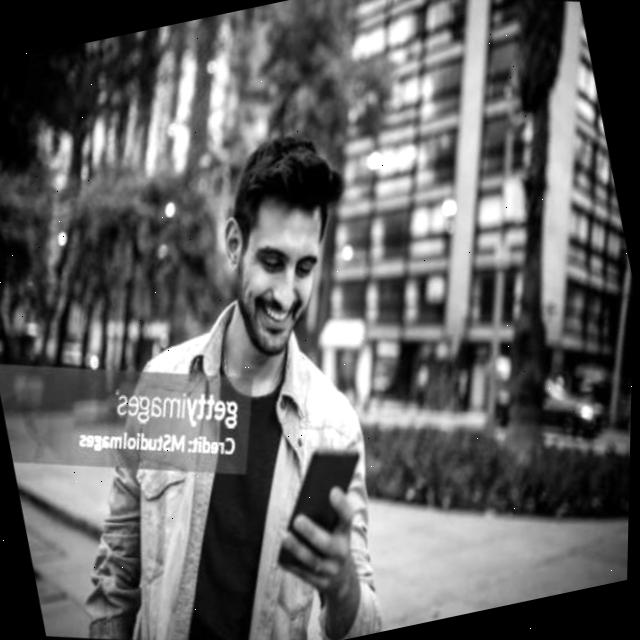phone: (253, 429, 388, 590)
